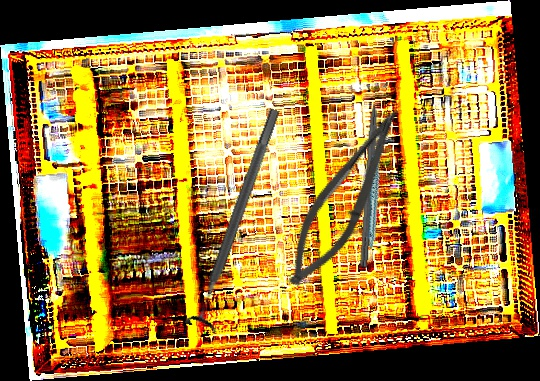Fixation Ring: (181, 103, 294, 335)
Handpiece: (345, 134, 406, 249)
Hook Surgical: (358, 80, 384, 269)
Micro Scissor: (274, 94, 412, 299)
